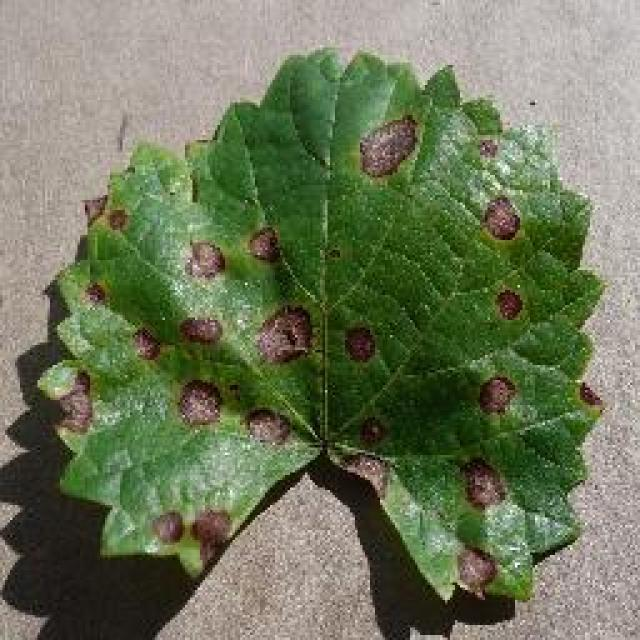Grape___Black_rot: (34, 42, 613, 608)
